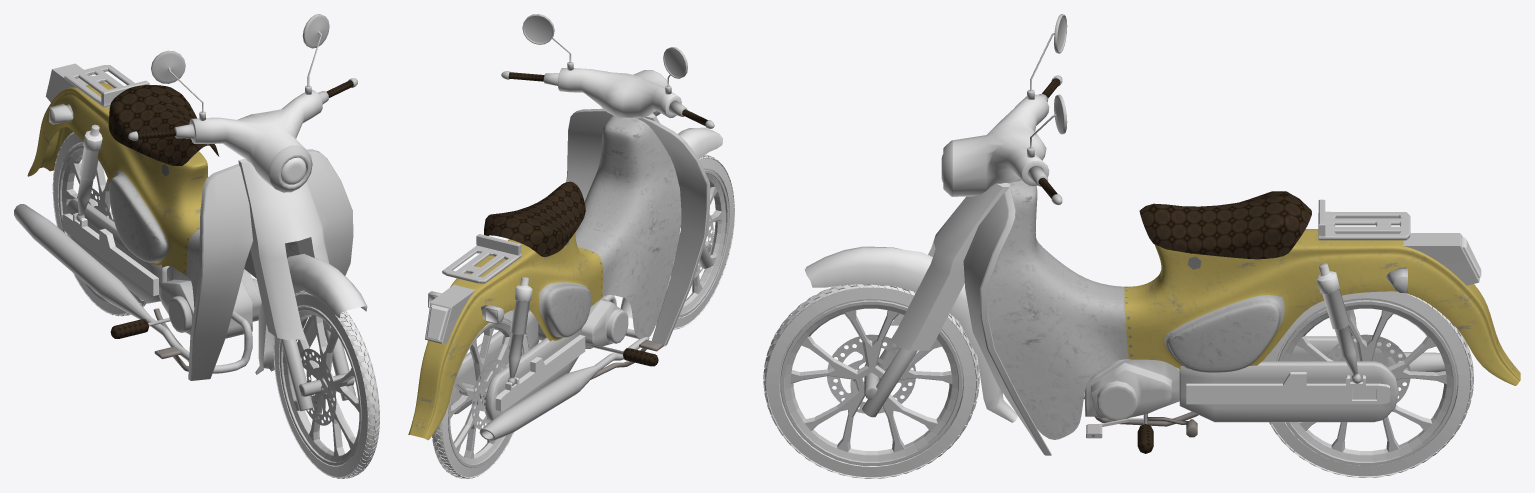
File: HONDA SUPER CUB 110 TEXTURE.fbx
The picture shows the model from 3 angles, left to right: view 1: azimuth 30°, elevation 25°; view 2: azimuth 150°, elevation 25°; view 3: azimuth 270°, elevation 25°; orthographic projection. The views are drawn at different scales.
Parts seen in each view (by area): view 1: Plane.003_Plane.008, Plane, Plane.003, Cylinder, Plane.004, Cylinder.003, Circle, Plane.001, Plane.002, Cube, Cube.005, Cube.006 (+14 smaller); view 2: Plane.003_Plane.008, Plane, Plane.004, Cylinder, Cylinder.003, Circle.002, Circle, Plane.006, Cube.005, Cube.006, Cube, Plane.007 (+11 smaller); view 3: Plane.003_Plane.008, Circle, Plane.001, Plane.004, Circle.002, Cube.003, Plane.007, Plane.003, Cylinder, Plane.002, Plane, Cube (+10 smaller).
Part boxes in pixels (left/top/right/bottom): Plane.003_Plane.008: left=27, top=82, right=307, bottom=340; Plane: left=188, top=149, right=353, bottom=380; Plane.003: left=238, top=158, right=330, bottom=339; Cylinder: left=189, top=89, right=322, bottom=192; Plane.004: left=108, top=85, right=219, bottom=165; Cylinder.003: left=14, top=204, right=252, bottom=373; Circle: left=279, top=306, right=361, bottom=465; Plane.001: left=273, top=290, right=379, bottom=478; Plane.002: left=255, top=254, right=367, bottom=374; Cube: left=159, top=266, right=261, bottom=338; Cube.005: left=62, top=213, right=158, bottom=296; Cube.006: left=65, top=198, right=169, bottom=303; Plane.003_Plane.008: left=408, top=115, right=681, bottom=440; Plane: left=566, top=108, right=709, bottom=346; Plane.004: left=484, top=181, right=585, bottom=256; Cylinder: left=558, top=68, right=681, bottom=118; Cylinder.003: left=479, top=295, right=649, bottom=440; Circle.002: left=448, top=320, right=523, bottom=467; Circle: left=666, top=169, right=729, bottom=317; Plane.006: left=442, top=234, right=521, bottom=283; Cube.005: left=495, top=335, right=585, bottom=411; Cube.006: left=485, top=328, right=581, bottom=421; Cube: left=538, top=297, right=628, bottom=348; Plane.007: left=432, top=310, right=529, bottom=478; Plane.003_Plane.008: left=988, top=180, right=1520, bottom=439; Circle: left=780, top=300, right=962, bottom=465; Plane.001: left=763, top=284, right=979, bottom=478; Plane.004: left=1139, top=191, right=1311, bottom=259; Circle.002: left=1278, top=300, right=1456, bottom=465; Cube.003: left=1179, top=361, right=1398, bottom=422; Plane.007: left=1262, top=291, right=1473, bottom=477; Plane.003: left=891, top=183, right=1009, bottom=350; Cylinder: left=943, top=94, right=1049, bottom=196; Plane.002: left=805, top=246, right=1017, bottom=422; Plane: left=963, top=186, right=1051, bottom=455; Cube: left=1085, top=359, right=1179, bottom=420.
Bounding box in the file's own units: 103 × 162 × 264.
